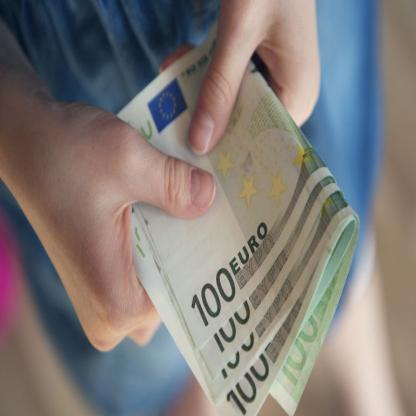billete: (109, 13, 362, 415)
